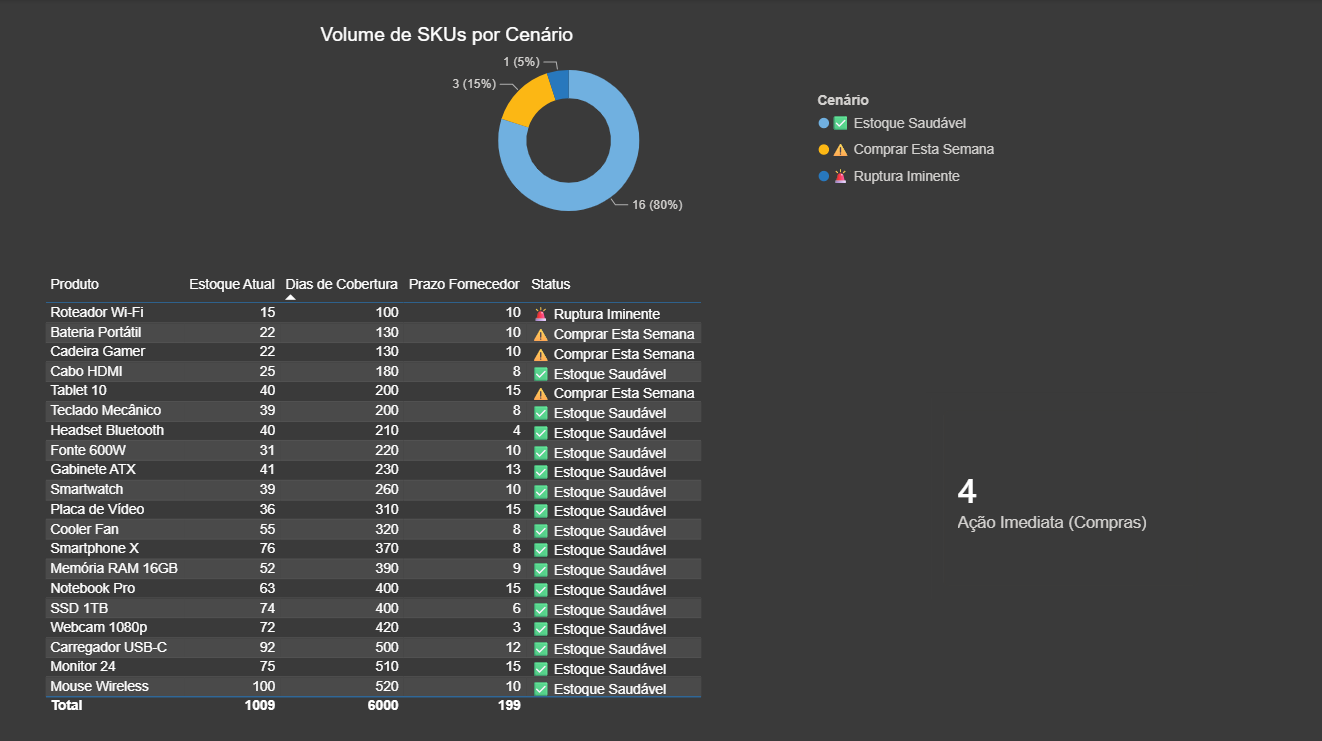

The page's visual inventory and layout, read from the dashboard file:
{"tool":"powerbi","page":{"name":"Página 1","canvas":[1280,720],"ordinal":0},"visuals":[{"type":"cardVisual","fields":{"Data":["CountNonNull(relatorio_gerencial.status_estoque)"]},"box":[35.7,24.7,279.9,204.5],"z":0},{"type":"tableEx","fields":{"Values":["relatorio_gerencial.nome_produto","Sum(relatorio_gerencial.quantidade_atual)","Sum(relatorio_gerencial.dias_estoque)","Sum(relatorio_gerencial.lead_time_dias)","relatorio_gerencial.status_estoque"]},"box":[35.7,229.2,776.7,491.3],"z":1},{"type":"donutChart","fields":{"Category":["relatorio_gerencial.status_estoque"],"Y":["CountNonNull(relatorio_gerencial.status_estoque)"]},"box":[547.5,24.7,624.4,204.5],"z":2}]}

Visuals, with their boxes in screenshot pixels (x1, y1, x2, y2), scaled from the page's 1280x720 canvas onto the 1322x741 screenshot:
cardVisual - CountNonNull(relatorio_gerencial.status_estoque): 37/25/326/236
tableEx - relatorio_gerencial.nome_produto x Sum(relatorio_gerencial.quantidade_atual): 37/236/839/740
donutChart - relatorio_gerencial.status_estoque x CountNonNull(relatorio_gerencial.status_estoque): 565/25/1210/236
